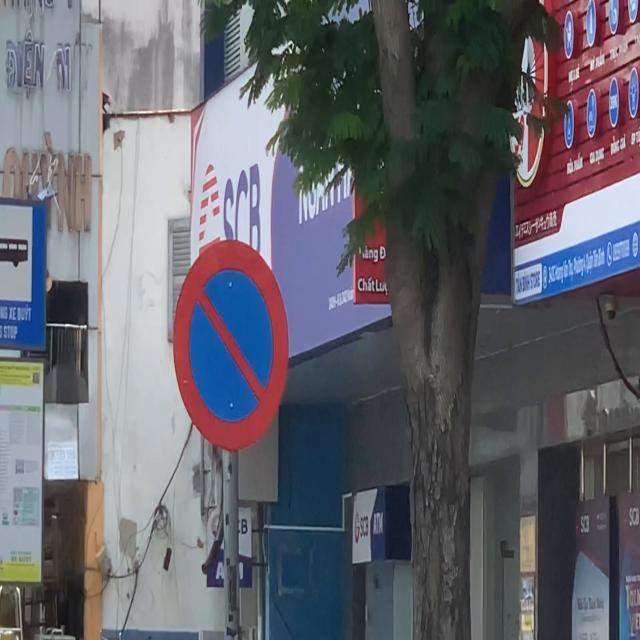Cam do: (173, 241, 290, 453)
